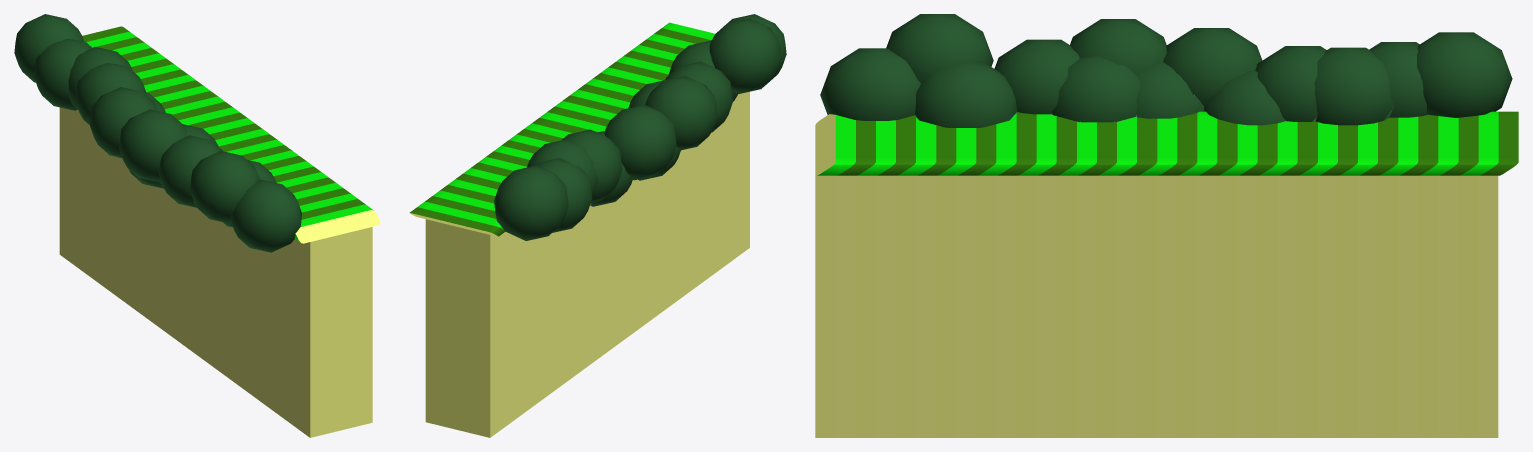
The model's file is ground2.fbx.
3 views of the same model, side by side, from view 1: azimuth 30°, elevation 25°; view 2: azimuth 150°, elevation 25°; view 3: azimuth 270°, elevation 25° (orthographic). The views are drawn at different scales.
Visible parts, largest first — view 1: Cube; view 2: Cube; view 3: Cube.
Boxes of the visible parts, box(x1,y1,x2,y2) form: Cube: box(14, 14, 380, 437); Cube: box(409, 14, 786, 437); Cube: box(815, 14, 1518, 437).
Size of the model in its own units: 466 by 796 by 1433.
